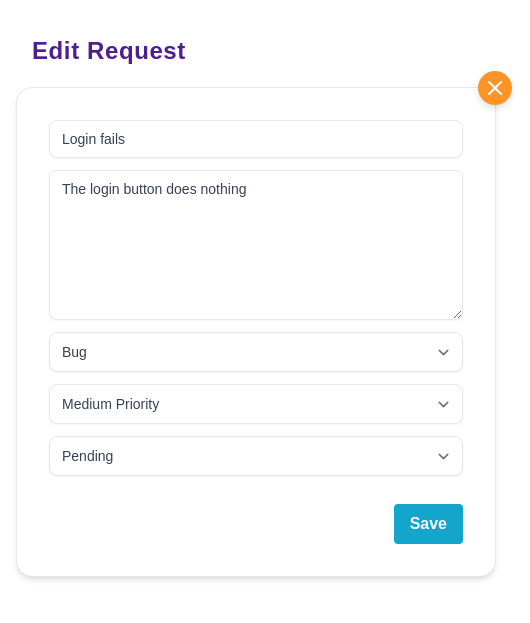
Test case: DevRequestEdit, edit › shows the version input only while the status is completed
Select "Completed" in the 3rd dropdown showing "Pending": (256, 456) top-left (49, 436), bottom-right (463, 476)
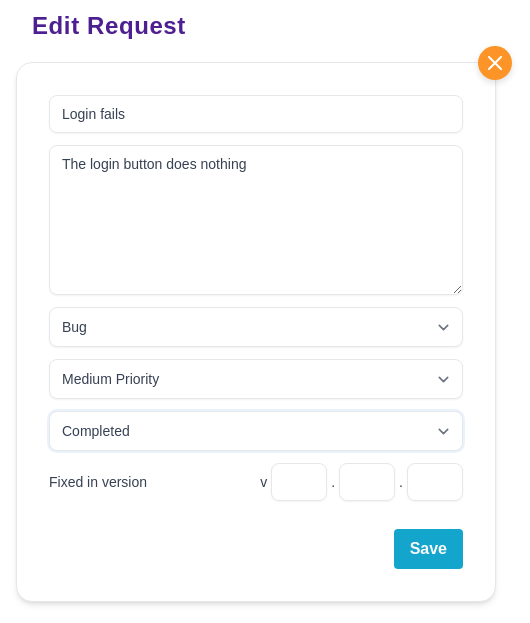
Result: the number of number fields is 3 at top-left (271, 463), bottom-right (327, 501); top-left (339, 463), bottom-right (395, 501); top-left (407, 463), bottom-right (463, 501)
